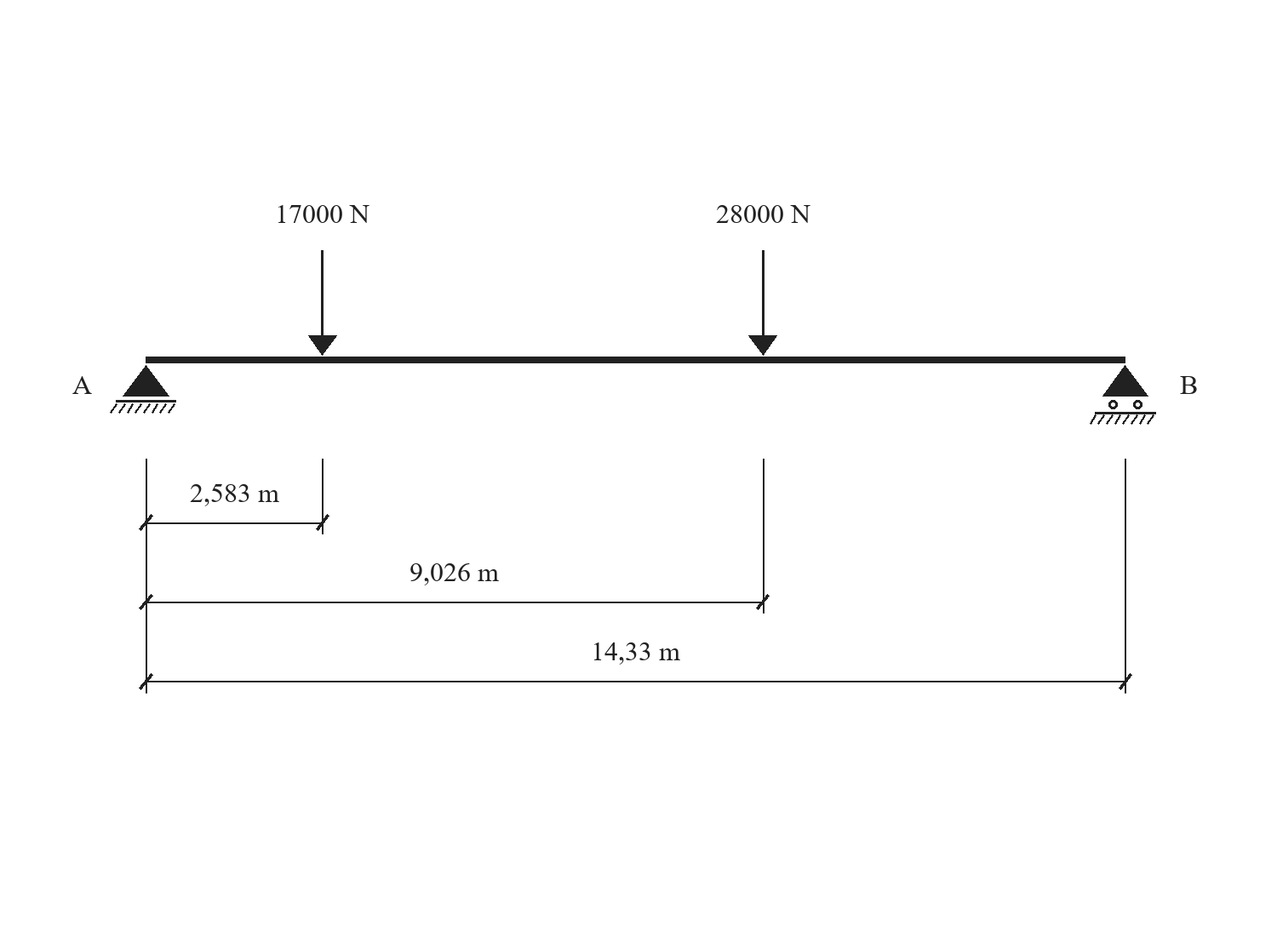pin_support: (110, 365, 176, 414)
point_load: (308, 250, 337, 356), (748, 250, 777, 356)
roller_support: (1090, 365, 1156, 425)
